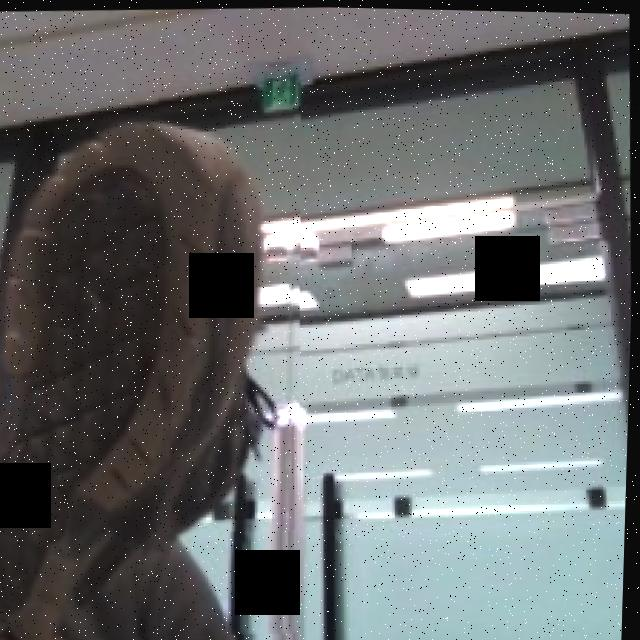shoe: (0, 54, 321, 640)
